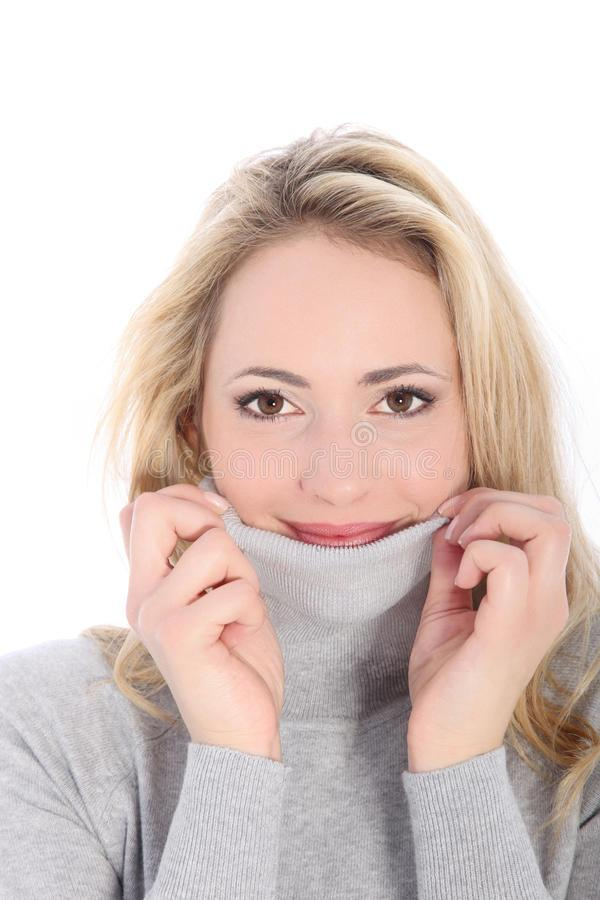No Mask: (159, 160, 574, 666)
